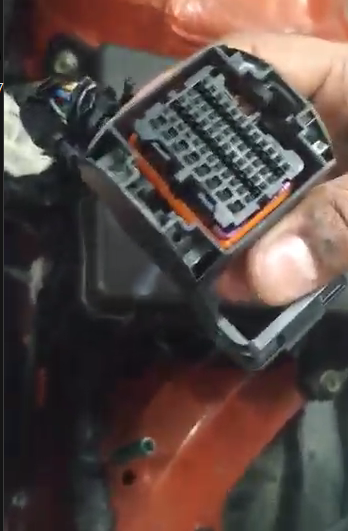connector: (68, 34, 348, 375)
